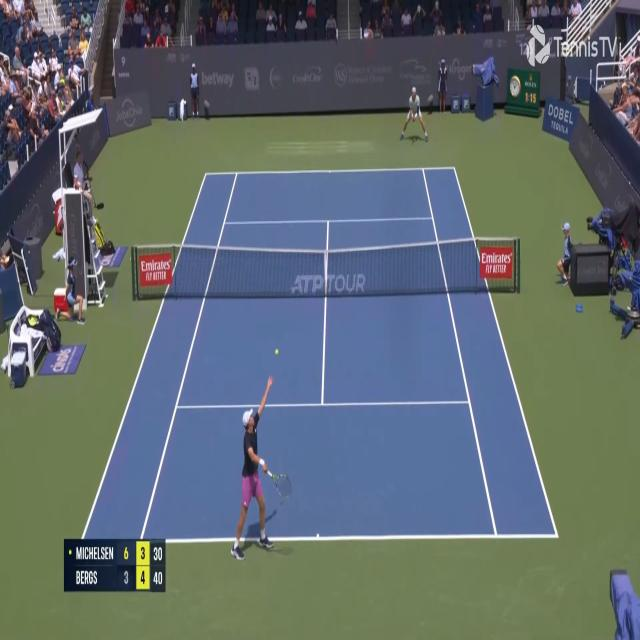tennis-player: (228, 368, 293, 567), (399, 83, 428, 143)
